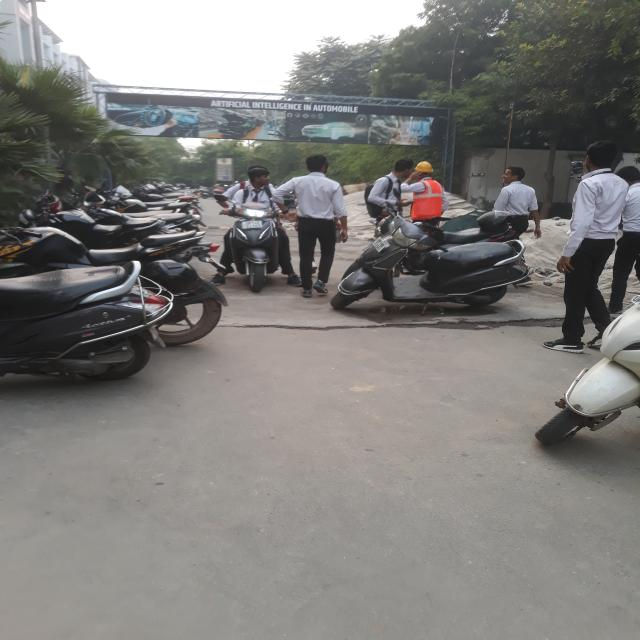safe: (399, 160, 450, 273)
unsafe: (542, 140, 628, 354), (216, 166, 296, 290), (280, 154, 344, 298), (488, 166, 542, 286), (367, 158, 414, 247), (614, 166, 640, 322)
